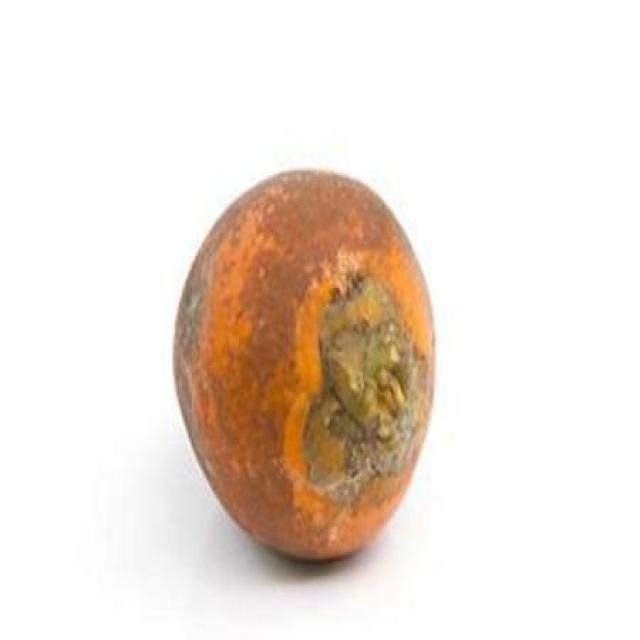good: (172, 171, 437, 563)
